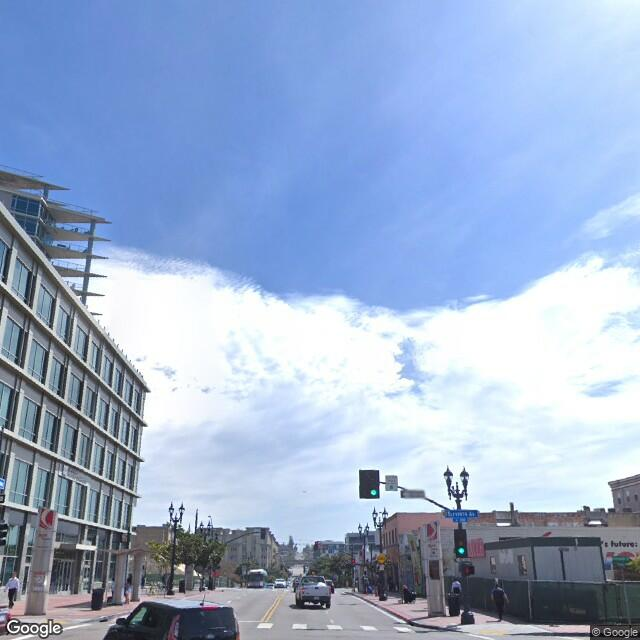light: (461, 469, 472, 487), (444, 470, 453, 486)
window: (27, 339, 48, 378), (61, 419, 74, 458), (40, 285, 53, 324), (73, 480, 84, 517)
